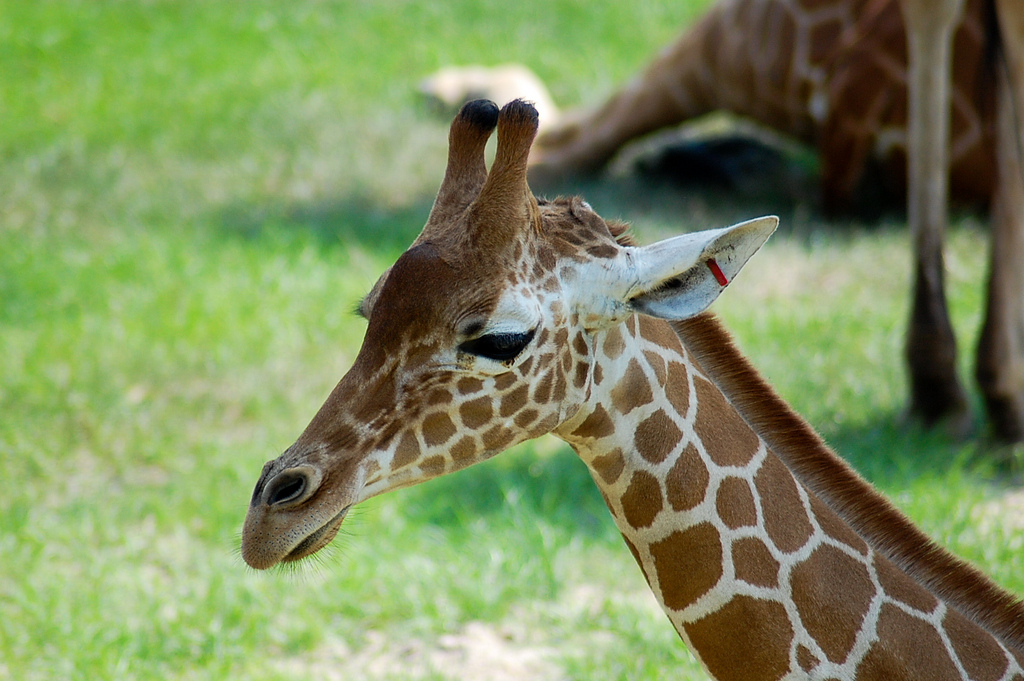giraffe: (185, 105, 955, 667)
